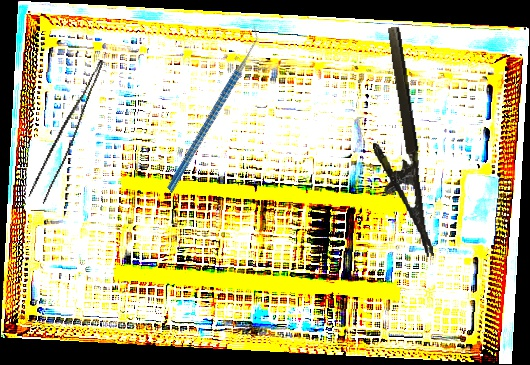Chopper: (122, 22, 303, 194)
Needle Holder: (357, 25, 434, 263)
Tissue Forceps: (27, 53, 105, 206)
